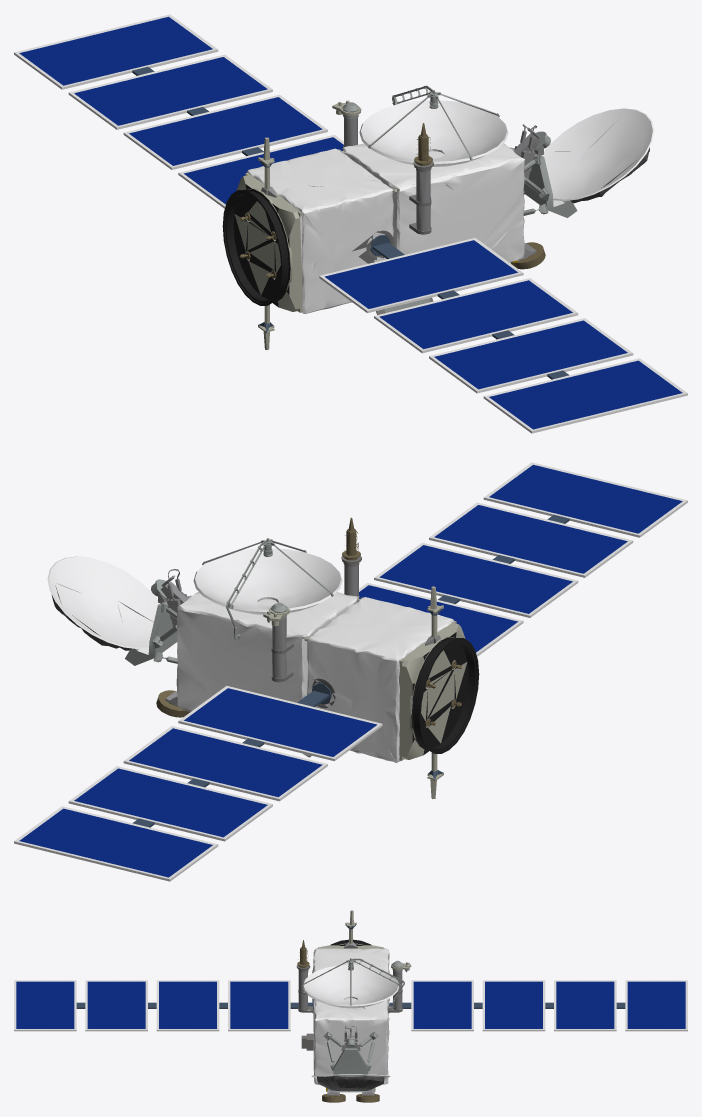
Rendered from jason.glb.
3 views of the same model, one above another, from view 1: azimuth 30°, elevation 25°; view 2: azimuth 150°, elevation 25°; view 3: azimuth 270°, elevation 25° (orthographic). The views are drawn at different scales.
Visible parts, largest first — view 1: solar-panel, body, foil; view 2: solar-panel, body, foil; view 3: solar-panel, body, foil.
Part boxes in pixels (x1=…): solar-panel: x1=14, y1=14, x2=687, y2=433; body: x1=222, y1=85, x2=654, y2=349; foil: x1=246, y1=143, x2=649, y2=313; solar-panel: x1=14, y1=462, x2=687, y2=881; body: x1=47, y1=517, x2=479, y2=798; foil: x1=51, y1=586, x2=454, y2=762; solar-panel: x1=14, y1=925, x2=687, y2=1031; body: x1=296, y1=910, x2=411, y2=1102; foil: x1=313, y1=948, x2=389, y2=1091.
Size of the model in its own units: 0.9868 by 0.5367 by 2.25.
